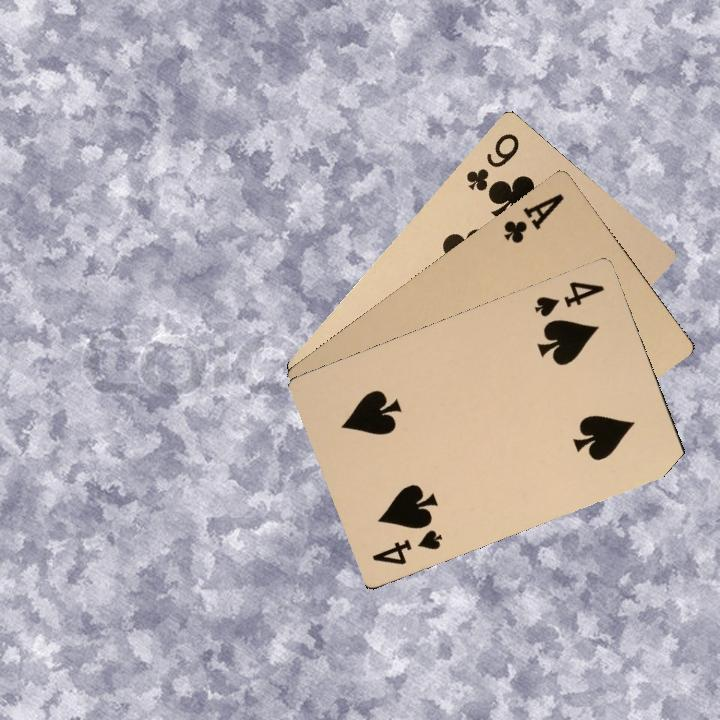4s: (530, 277, 607, 320), (368, 525, 445, 568)
9c: (462, 129, 522, 194)
Ac: (499, 189, 567, 247)
